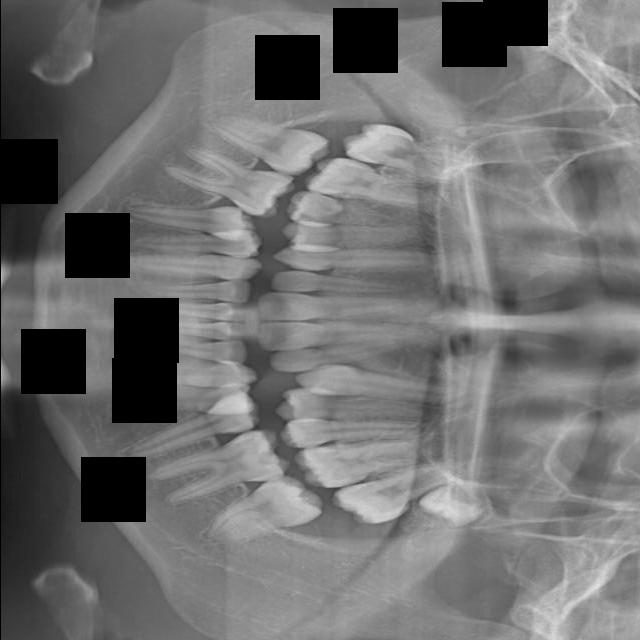AGS Medikal Implant: (216, 536, 217, 536)
AMerOss Implant: (141, 422, 295, 516)
Amalgam filling: (337, 114, 480, 189)
Anthogyr Implant: (116, 399, 264, 464)
Bicon Implant: (112, 384, 256, 414)
BioHorizons Implant: (116, 353, 258, 392)
BioLife Implant: (132, 329, 249, 366)
Biomet 3i Implant: (142, 310, 249, 343)
Blue Sky Bio Implant: (147, 300, 249, 321)
Camlog Implant: (137, 281, 252, 304)
Caries: (268, 340, 412, 375)
Composite filling: (114, 245, 263, 283)
Cowellmedi Implant: (115, 228, 262, 263)
Crown: (122, 205, 256, 232)
DENTSPLY Implant: (301, 152, 443, 211)
Dentatus Implant: (159, 141, 297, 225)
Dentis Implant: (194, 107, 333, 182)
Euroteknika Implant: (286, 189, 408, 228)
Filling: (278, 220, 421, 258)
Frontier Implant: (269, 246, 440, 273)
Hiossen Implant: (292, 360, 478, 409)
Implant: (256, 291, 416, 320)
Implant Direct: (269, 268, 411, 302)
Keystone Dental Implant: (257, 320, 418, 351)
MIS Implant: (274, 385, 424, 421)
Mandible: (278, 418, 431, 453)
Maxilla: (292, 431, 425, 493)
Megagen Implant: (327, 459, 466, 534)
Neodent Implant: (414, 465, 495, 539)
